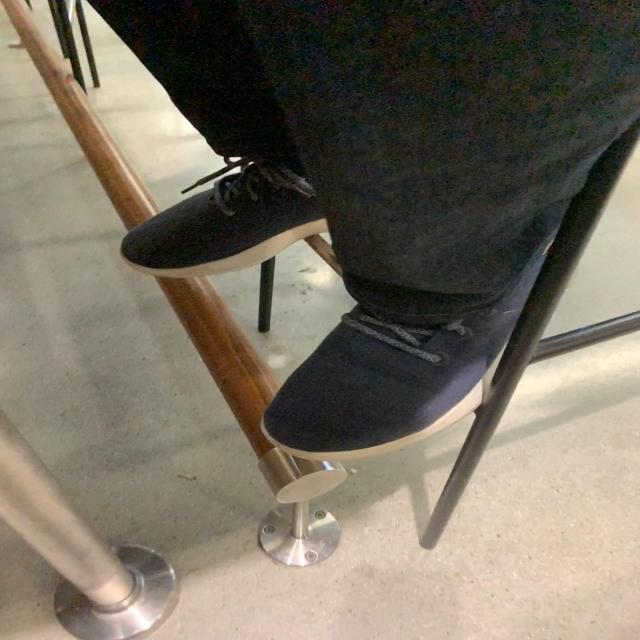shoe: (263, 243, 547, 460), (126, 150, 332, 275)
